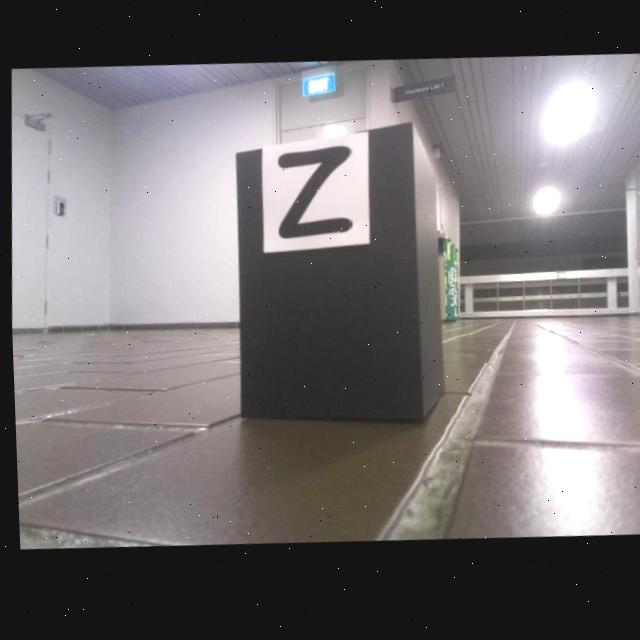Z: (277, 150, 349, 242)
